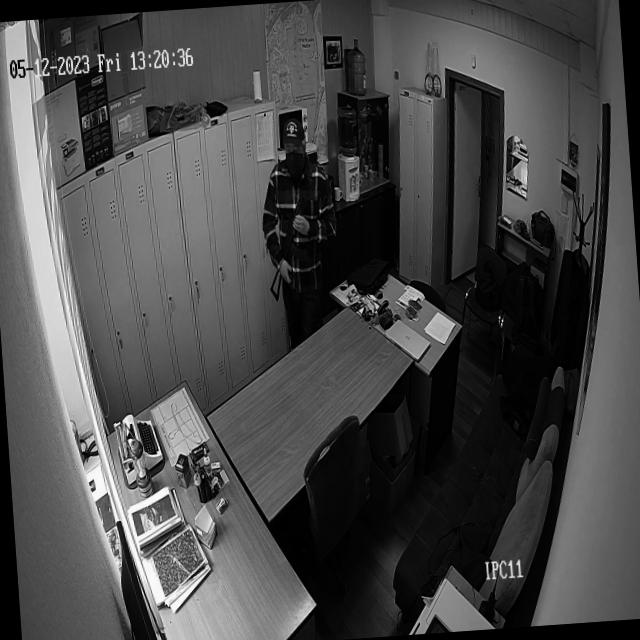gun: (260, 161, 328, 310)
person with a gun: (254, 112, 344, 324)
